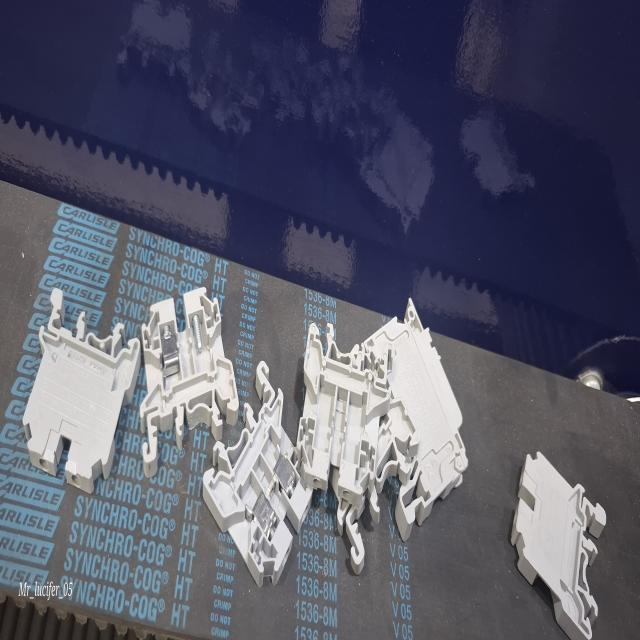Inverted: (20, 284, 140, 490), (510, 450, 608, 640)
Pass: (200, 362, 312, 582)
Reject: (136, 282, 242, 472), (296, 320, 390, 500)
